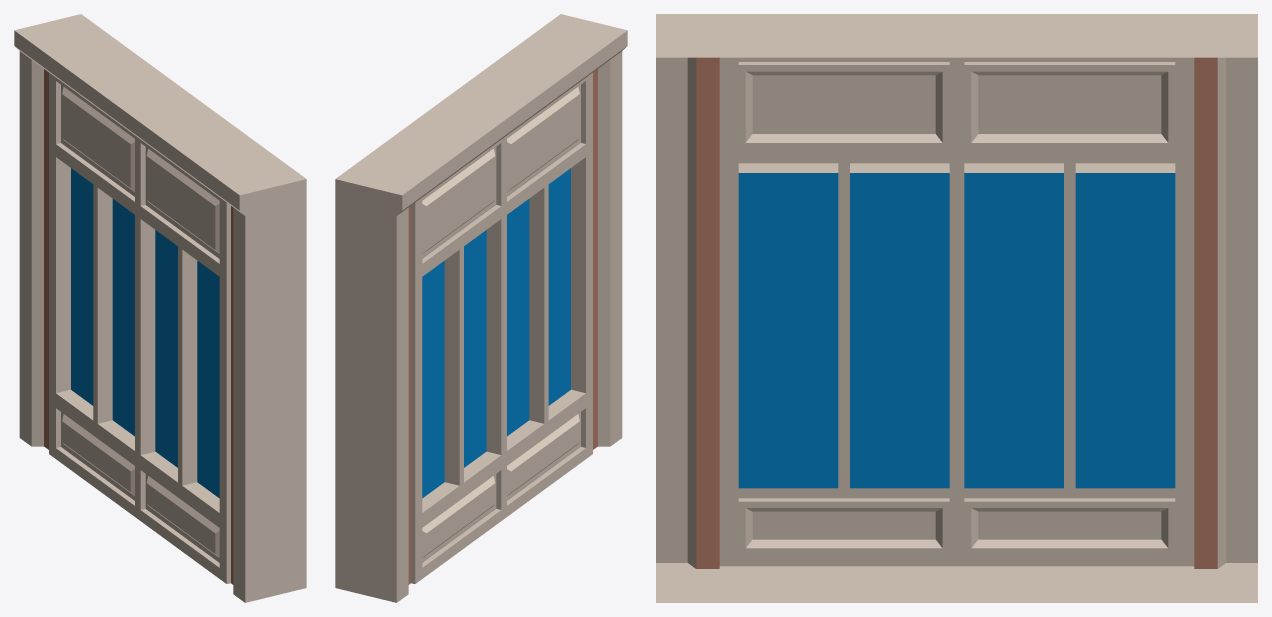
Rendered from O_V_F_Type7_Vitrine.fbx.
3 renders of one model, left to right at view 1: azimuth 30°, elevation 25°; view 2: azimuth 150°, elevation 25°; view 3: azimuth 270°, elevation 25°, orthographic. The views are drawn at different scales.
Parts seen in each view (by area): view 1: Box052; view 2: Box052; view 3: Box052.
Boxes of the visible parts, x1=… form: Box052: x1=14, y1=14, x2=306, y2=602; Box052: x1=335, y1=14, x2=627, y2=602; Box052: x1=656, y1=14, x2=1257, y2=602.
Size of the model in its own units: 0.5142 by 3 by 3.
